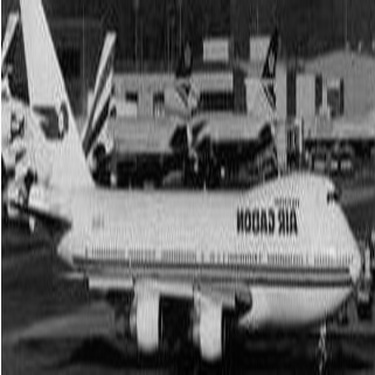airplane: (4, 5, 370, 371), (118, 31, 312, 181), (52, 21, 206, 189), (6, 35, 129, 220), (1, 7, 49, 229)
